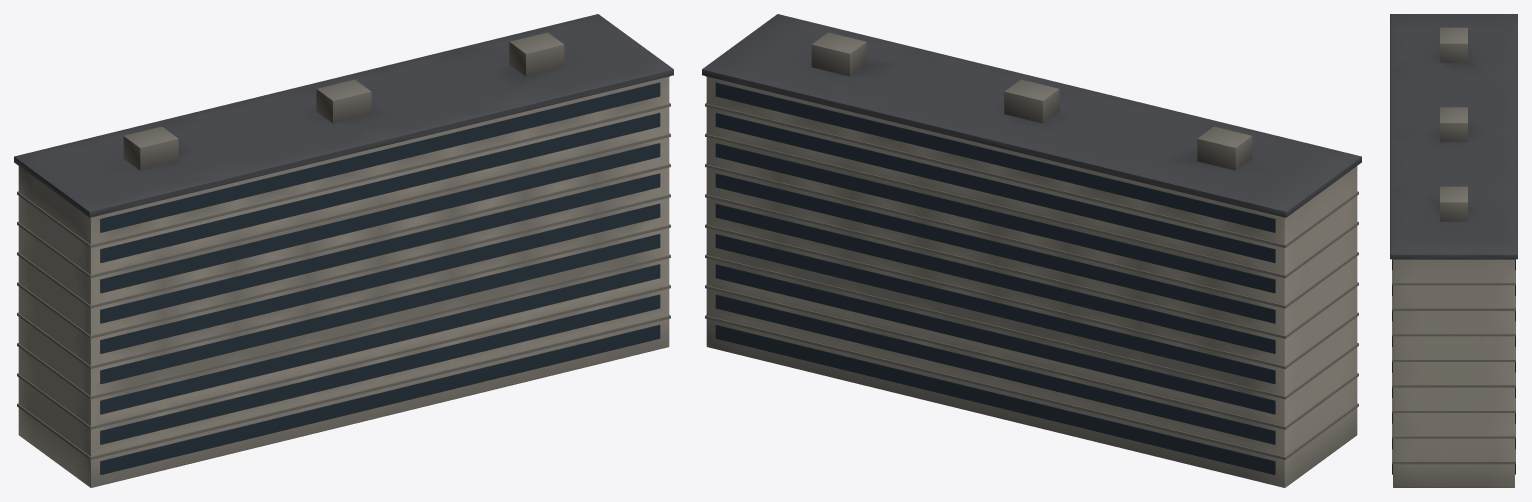
Rendered from apartment.glb.
The picture shows the model from 3 angles, left to right: view 1: azimuth 30°, elevation 25°; view 2: azimuth 150°, elevation 25°; view 3: azimuth 270°, elevation 25°; orthographic projection. The views are drawn at different scales.
Parts seen in each view (by area): view 1: Cube; view 2: Cube; view 3: Cube.
Part boxes in pixels (x1,y1,x2,y2): Cube: (14,14,673,487); Cube: (702,14,1361,487); Cube: (1390,14,1517,487).
Bounding box in the file's own units: 60.6 × 29.85 × 13.6.
